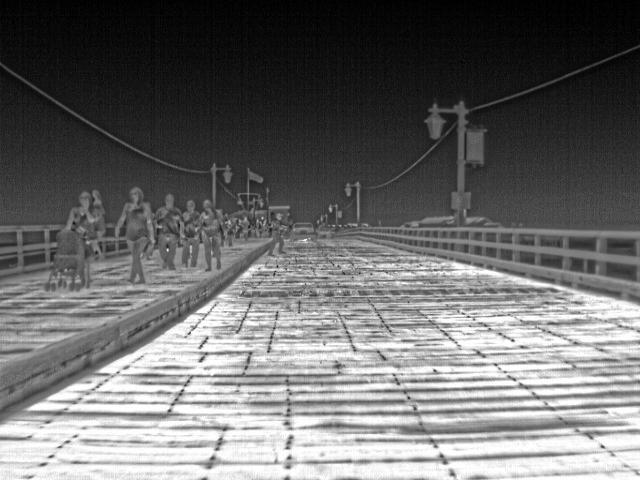car: (291, 221, 317, 240)
person: (114, 184, 159, 283), (64, 189, 93, 284), (154, 190, 184, 269), (197, 198, 227, 269), (183, 200, 203, 265), (266, 208, 290, 259), (91, 200, 109, 262), (225, 218, 238, 248), (238, 215, 253, 241), (87, 189, 104, 208)
